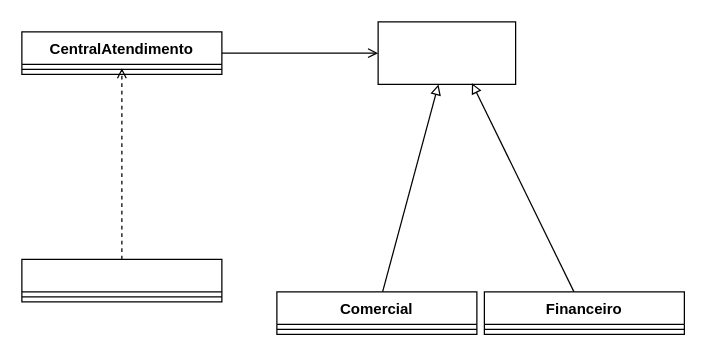
Image size: 706x356. Some labels were removed from this diagram. The shapes that lost their labels are listed below. From the top down, each one's centre as x and y in pixels, then its label:
the point at 446,52: «interface» Setor
the point at 121,280: Pessoa
